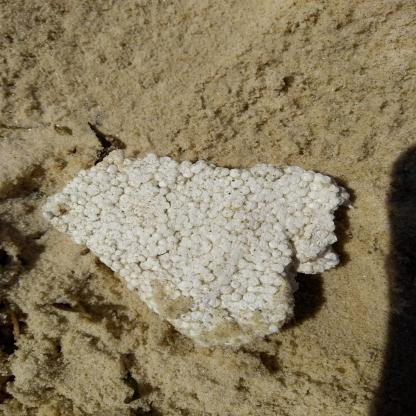Styrofoam piece: (43, 149, 355, 346)
